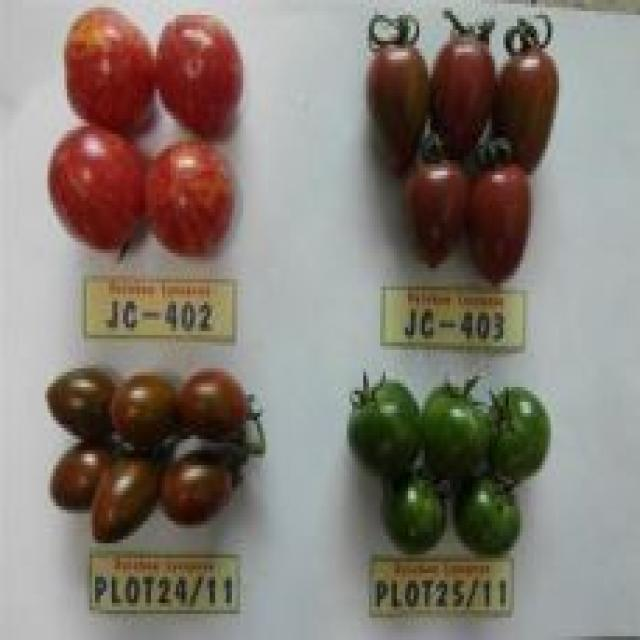level 1: (334, 368, 454, 492), (417, 357, 500, 484), (482, 378, 559, 489), (447, 474, 528, 572), (376, 468, 442, 557)
level 6: (36, 125, 164, 273), (134, 135, 260, 278), (152, 12, 258, 160), (53, 5, 156, 136)
